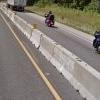Motorcycle: (39, 7, 57, 30)
